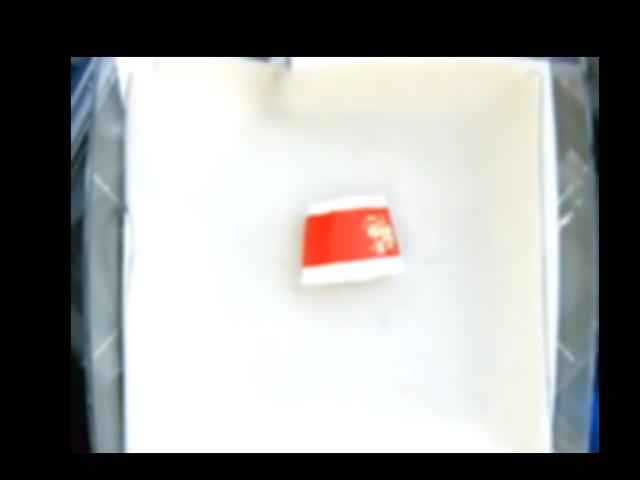Cup: (299, 194, 403, 288)
